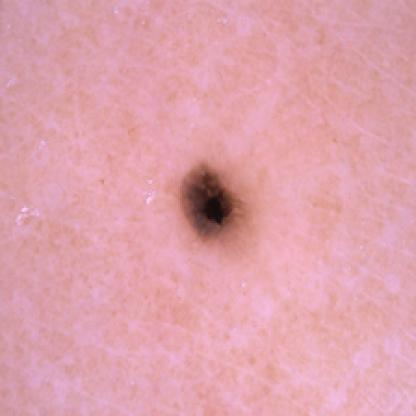benign: (175, 154, 247, 243)
